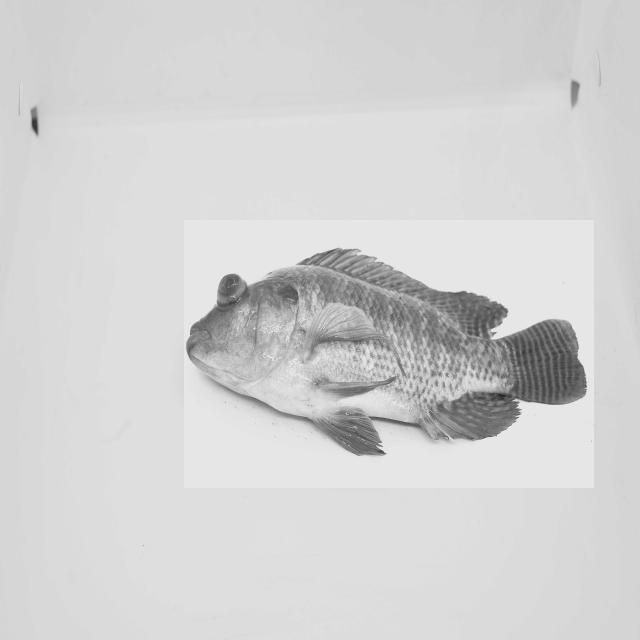streptococcus Disease: (184, 220, 594, 488)
